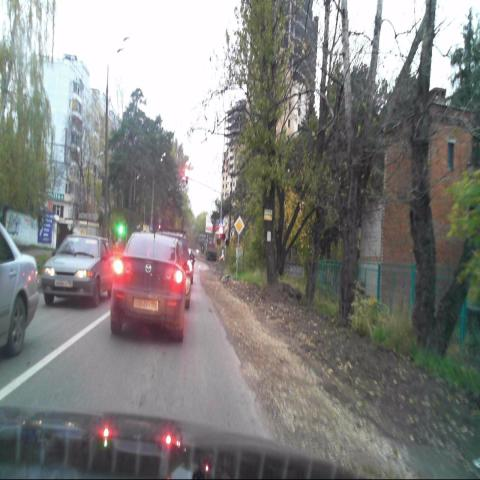2_1: (234, 215, 244, 235)
